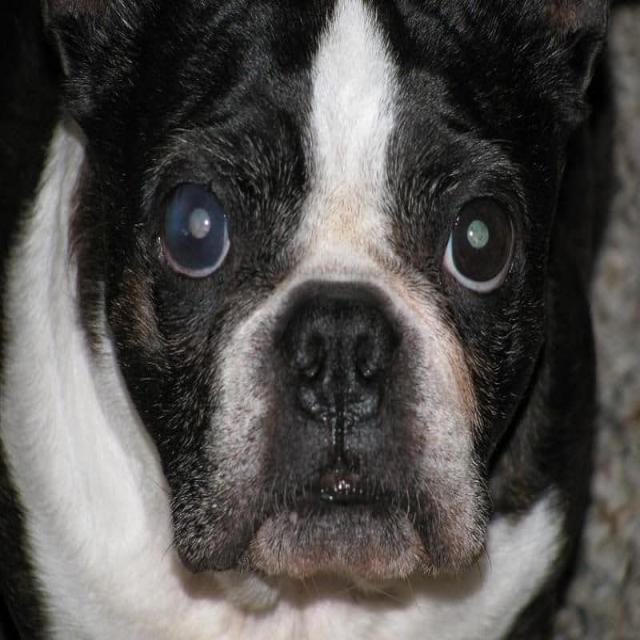eye: (434, 180, 524, 302), (152, 168, 238, 286)
